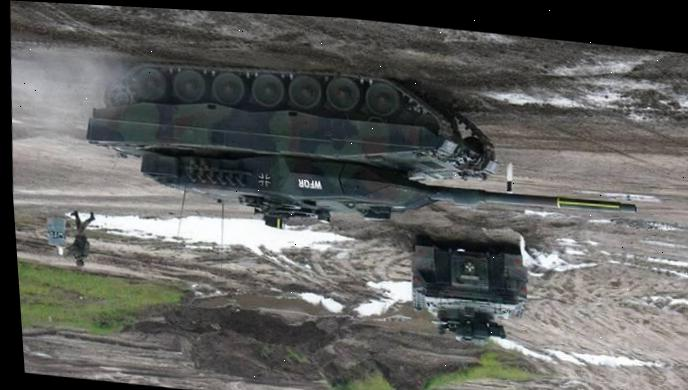person: (60, 207, 101, 271)
tank: (74, 43, 647, 269), (404, 231, 536, 351)
